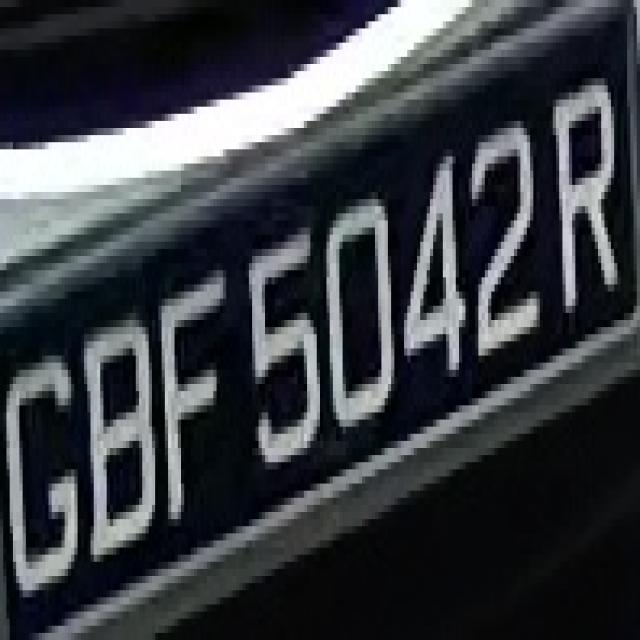0: (326, 185, 401, 441)
2: (468, 128, 552, 377)
4: (397, 142, 472, 391)
5: (242, 206, 324, 505)
B: (80, 298, 162, 562)
F: (148, 278, 230, 526)
G: (13, 320, 81, 619)
R: (553, 78, 627, 320)
